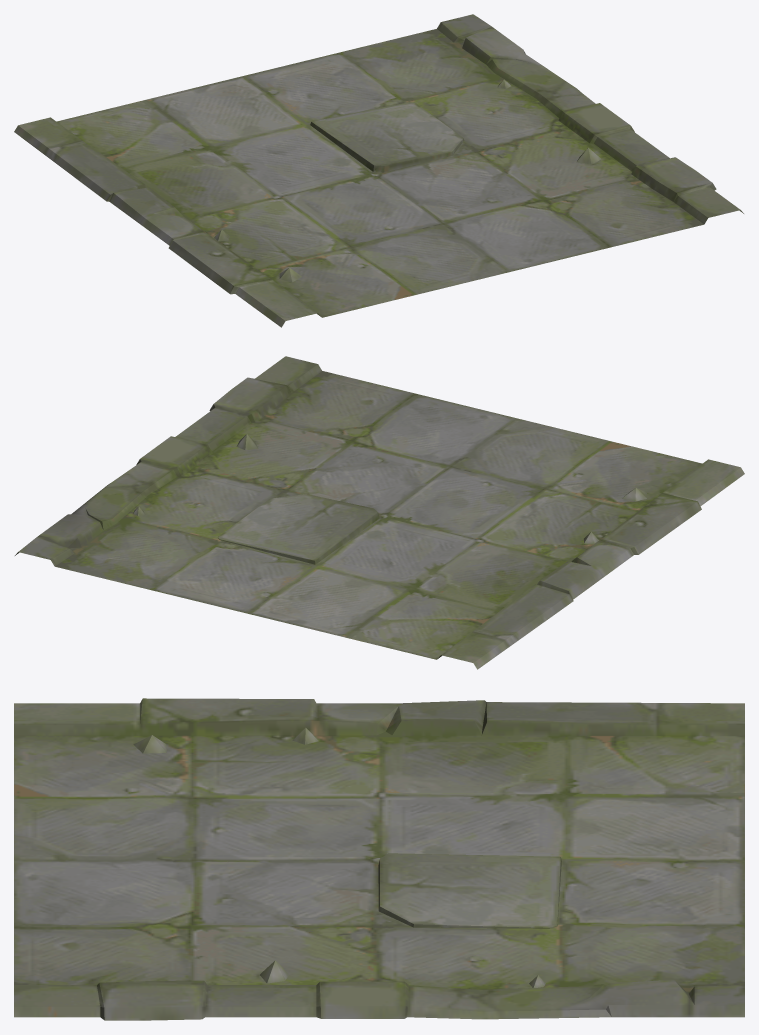
File: shrine_road001_01.FBX
The picture shows the model from 3 angles, top to bottom: view 1: azimuth 30°, elevation 25°; view 2: azimuth 150°, elevation 25°; view 3: azimuth 270°, elevation 25°; orthographic projection. The views are drawn at different scales.
Visible parts, largest first — view 1: shrine_road001_01; view 2: shrine_road001_01; view 3: shrine_road001_01.
Boxes of the visible parts, x1,y1,x2,y2 form: shrine_road001_01: (14,14,743,327); shrine_road001_01: (15,356,744,669); shrine_road001_01: (14,698,744,1020).
Bounding box in the file's own units: 612 × 25.14 × 600.
